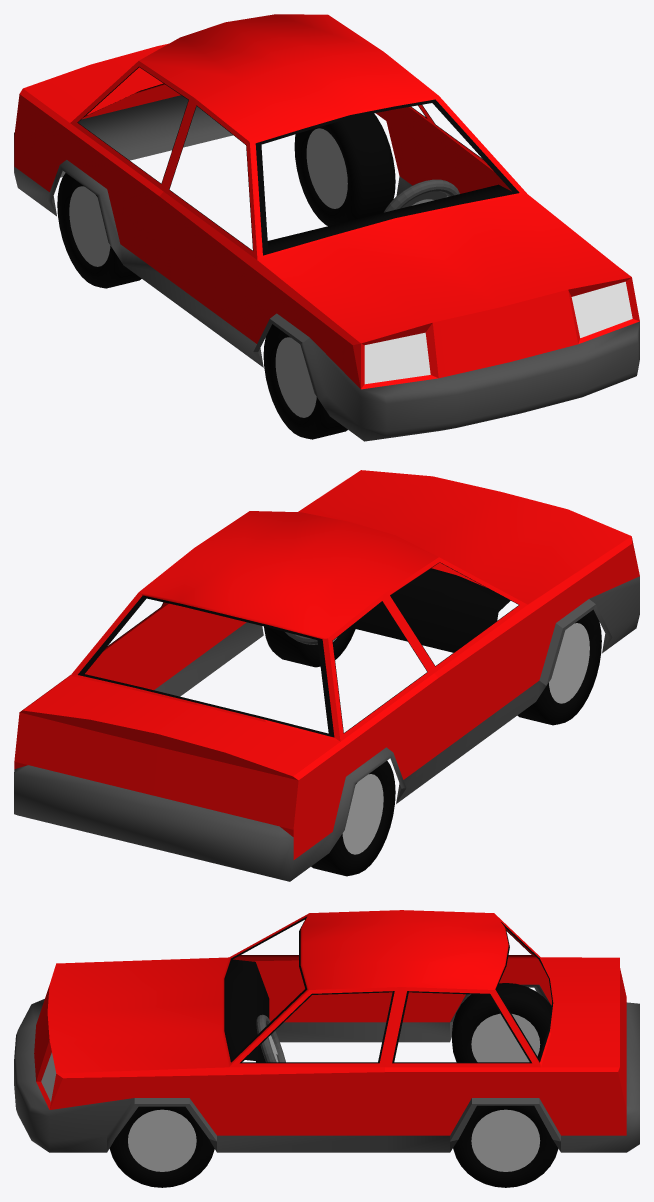
Rendered from car.glb.
3 views of the same model, one above another, from view 1: azimuth 30°, elevation 25°; view 2: azimuth 150°, elevation 25°; view 3: azimuth 270°, elevation 25° (orthographic). The views are drawn at different scales.
Visible parts, largest first — view 1: chassis, wheel_rl, wheel_rr, wheel_fr, wheel_rl_steer, steering; view 2: chassis, wheel_rr, wheel_fr, wheel_fl; view 3: chassis, wheel_rl, wheel_fl, wheel_rr, wheel_rr_steer, steering.
Boxes of the visible parts, x1,y1,x2,y2 form: chassis: (14, 14, 639, 441); wheel_rl: (294, 113, 395, 226); wheel_rr: (57, 173, 141, 288); wheel_fr: (263, 324, 347, 439); wheel_rl_steer: (306, 128, 347, 208); steering: (384, 179, 459, 212); chassis: (14, 470, 639, 881); wheel_rr: (311, 761, 395, 876); wheel_fr: (517, 609, 601, 725); wheel_fl: (264, 626, 355, 667); chassis: (14, 910, 639, 1152); wheel_rl: (453, 1105, 558, 1187); wheel_fl: (109, 1106, 214, 1187); wheel_rr: (452, 983, 551, 1062); wheel_rr_steer: (471, 1013, 540, 1062); steering: (256, 1014, 285, 1062).
Size of the model in its own units: 2.1 by 1.59 by 4.66.
